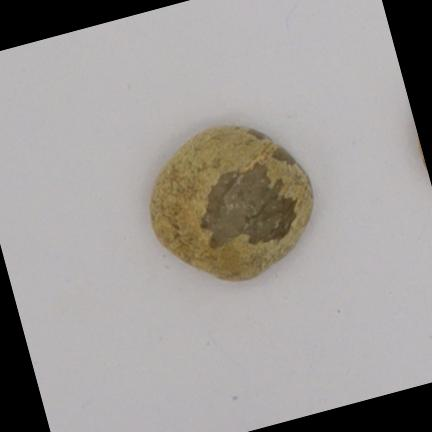immature: (150, 125, 313, 278)
